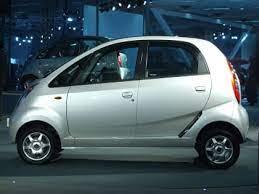Nano: (10, 33, 251, 170)
